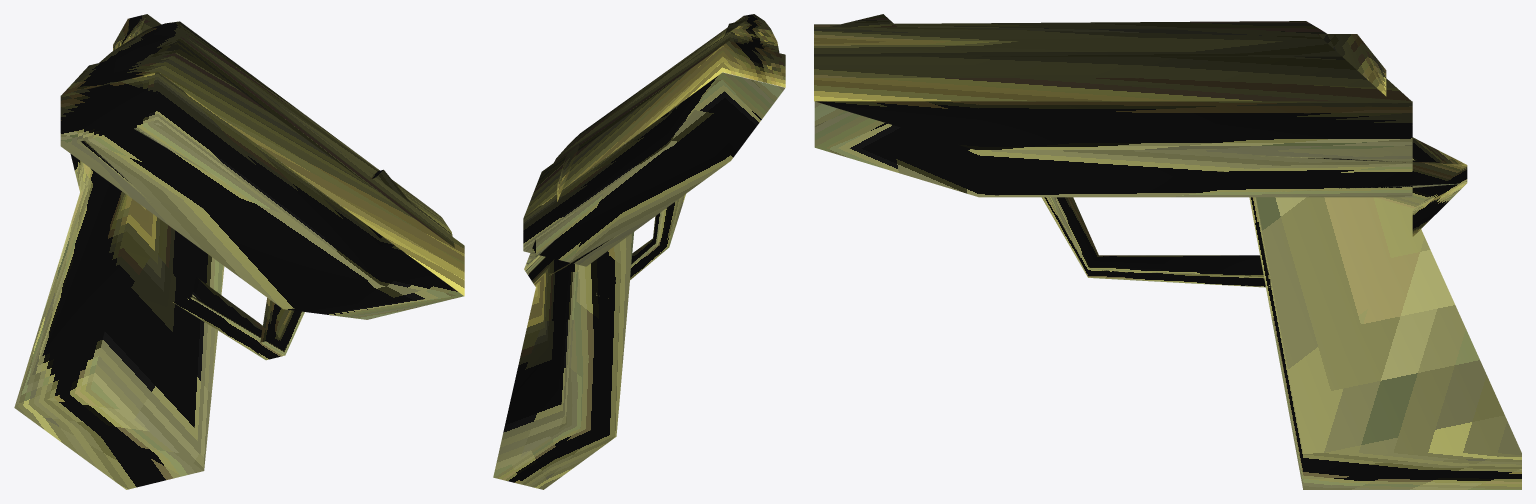
The model's file is gun_handless.glb.
3 views of the same model, side by side, from view 1: azimuth 30°, elevation 25°; view 2: azimuth 150°, elevation 25°; view 3: azimuth 270°, elevation 25° (orthographic). The views are drawn at different scales.
Visible parts, largest first — view 1: m4EnvMappingTexScaleS0.031250TexScaleT0.031250; view 2: m4EnvMappingTexScaleS0.031250TexScaleT0.031250; view 3: m4EnvMappingTexScaleS0.031250TexScaleT0.031250.
Part boxes in pixels (<box>): m4EnvMappingTexScaleS0.031250TexScaleT0.031250: <box>14,14,464,489</box>; m4EnvMappingTexScaleS0.031250TexScaleT0.031250: <box>493,14,785,489</box>; m4EnvMappingTexScaleS0.031250TexScaleT0.031250: <box>814,14,1521,489</box>.
Bounding box in the file's own units: 30 × 138 × 194.
Materials: 1 (1 with a texture image).
